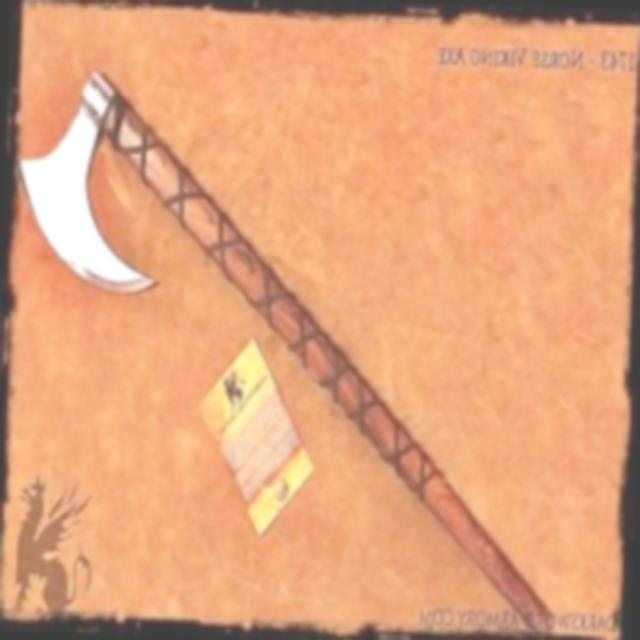ax: (0, 62, 577, 638)
